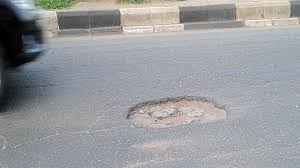pothole: (111, 86, 261, 133)
